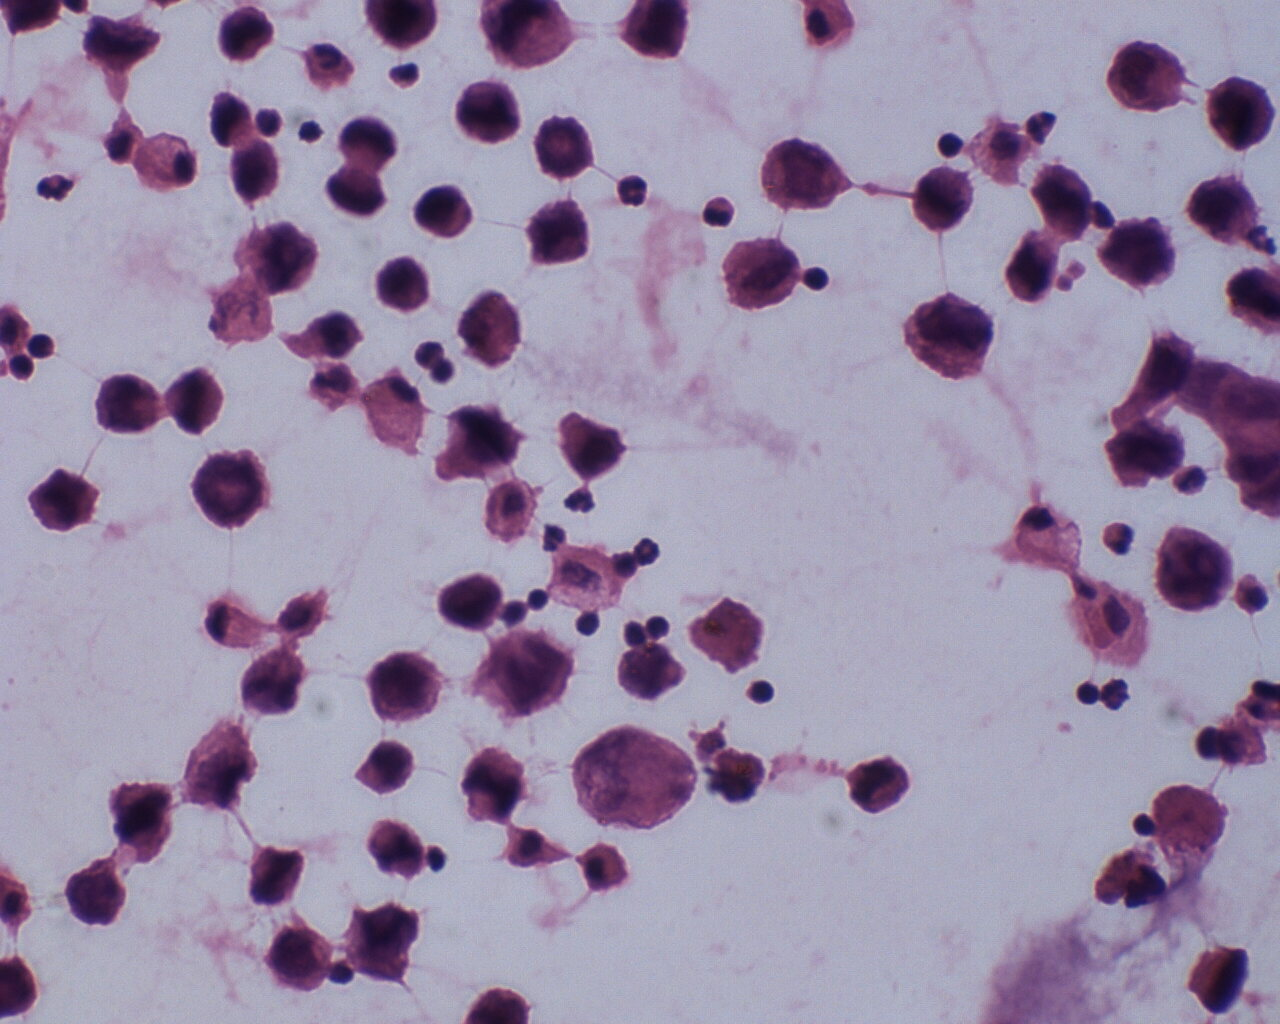ab: (905, 286, 998, 385), (757, 136, 857, 217), (189, 449, 276, 536), (1154, 525, 1235, 616), (720, 230, 801, 319), (1099, 38, 1187, 119), (1102, 209, 1180, 295), (360, 645, 441, 726), (344, 903, 425, 983), (551, 408, 633, 485), (1205, 70, 1274, 153), (1030, 156, 1094, 245), (1186, 177, 1262, 250), (1188, 940, 1255, 1021), (27, 464, 101, 535), (527, 196, 591, 272), (266, 923, 335, 993), (91, 371, 163, 438), (1001, 230, 1061, 308), (911, 163, 974, 237), (436, 568, 504, 635), (453, 75, 520, 143), (211, 5, 280, 67), (416, 179, 476, 245), (374, 252, 433, 315)
histo: (364, 370, 426, 451), (127, 130, 196, 194)
lymph: (800, 263, 835, 298), (749, 675, 778, 708)
meso: (575, 841, 634, 895)
neutro: (1098, 516, 1138, 561), (1172, 462, 1212, 501), (37, 168, 75, 205), (615, 170, 651, 210), (559, 485, 600, 516)
